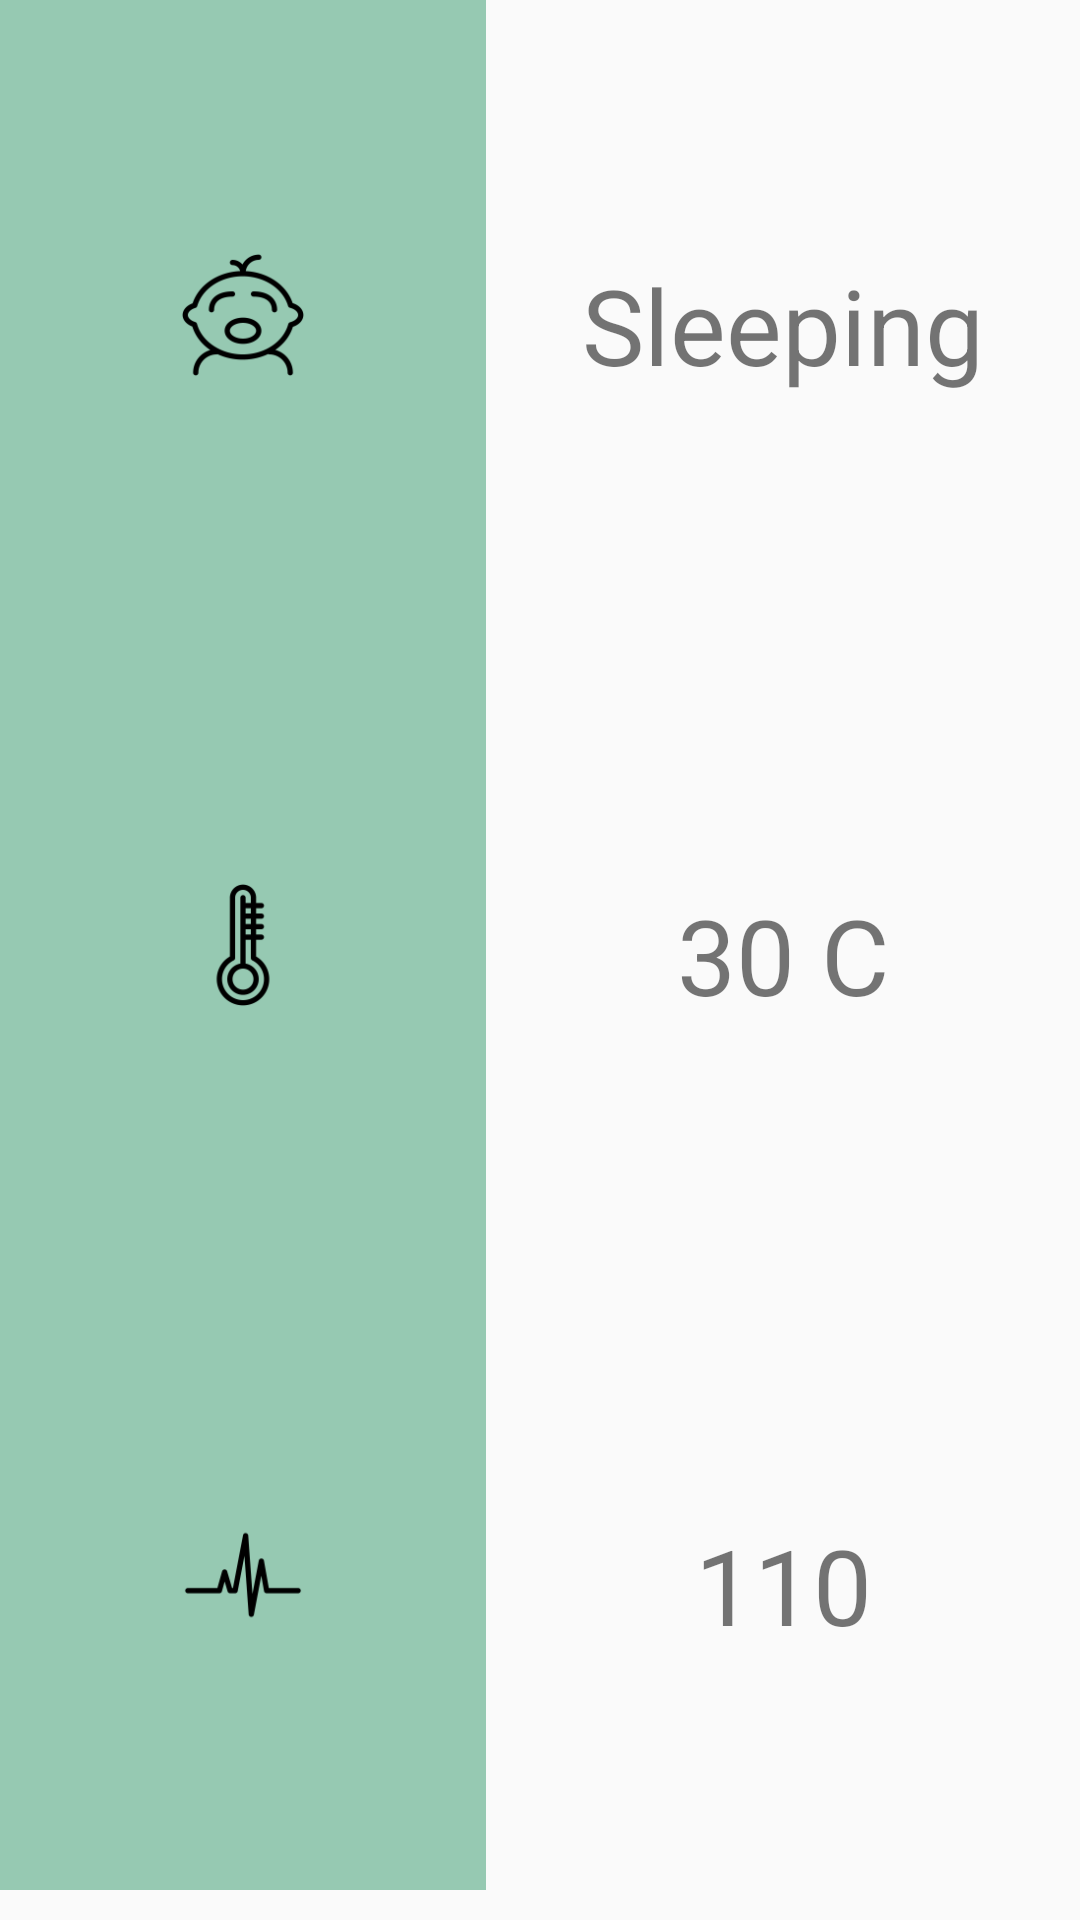

Locate icon controls on the screen. Image size 1080w x 1920h, boxes as bbox=(x1, y1, x2, y2).
babybtn: bbox=(182, 254, 304, 376)
pulsebtn: bbox=(185, 1532, 301, 1618)
tempraturebtn: bbox=(216, 884, 270, 1006)
